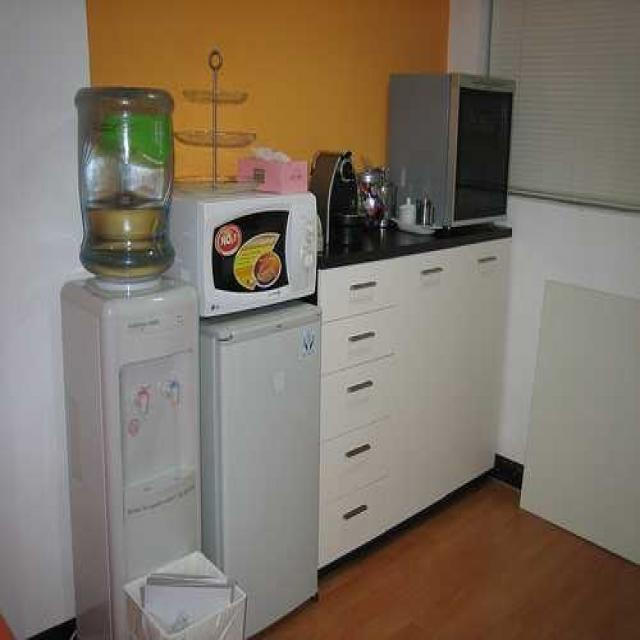refrigerator: (216, 307, 324, 636), (388, 74, 514, 233)
